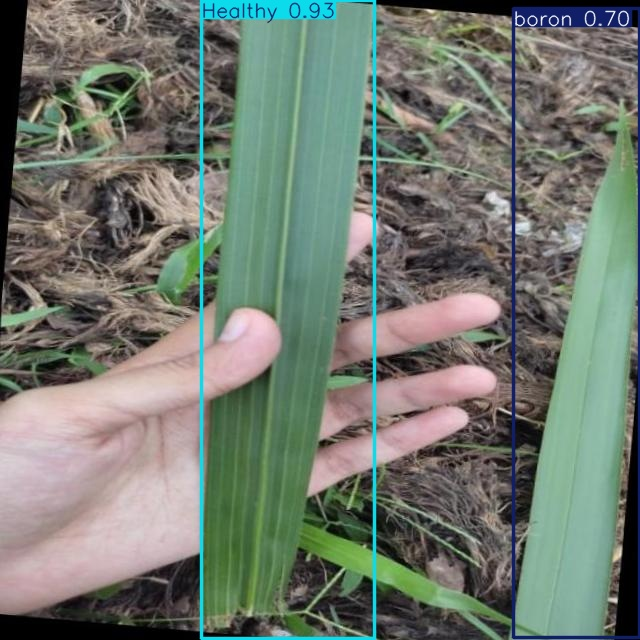Healthy: (201, 1, 375, 639)
nitrogen: (514, 9, 640, 637)
